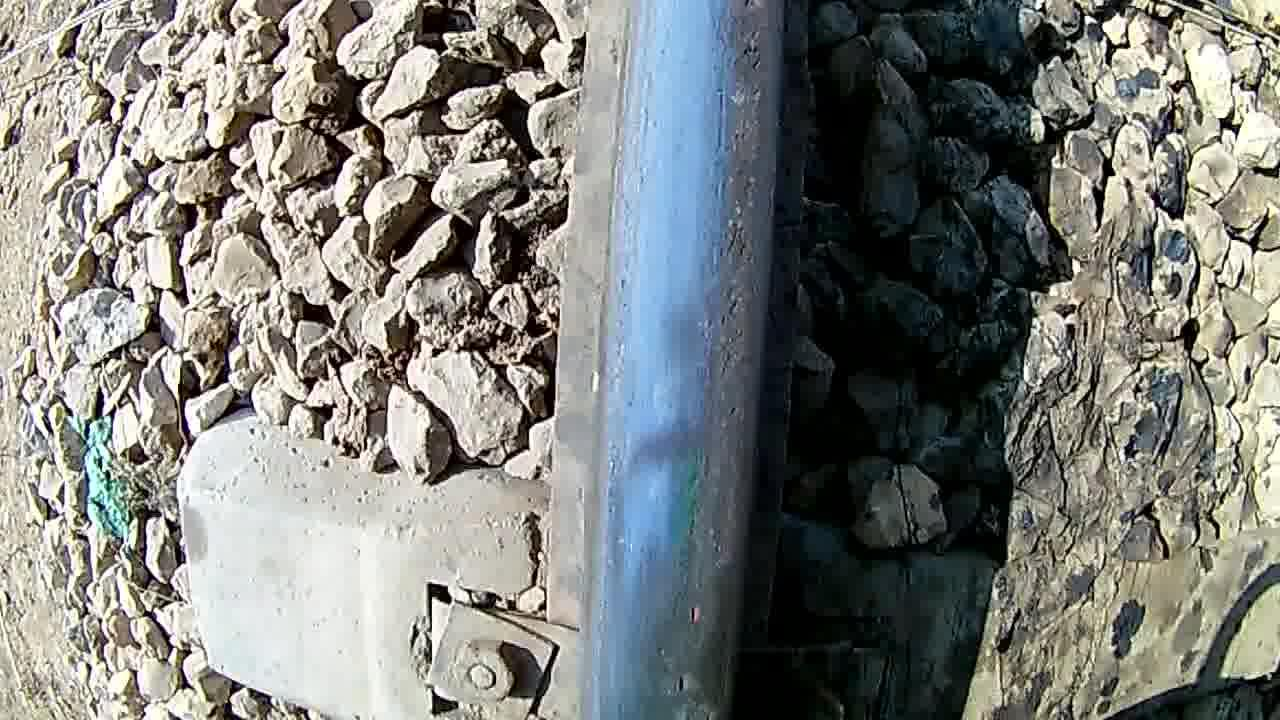crack: (631, 0, 790, 720)
